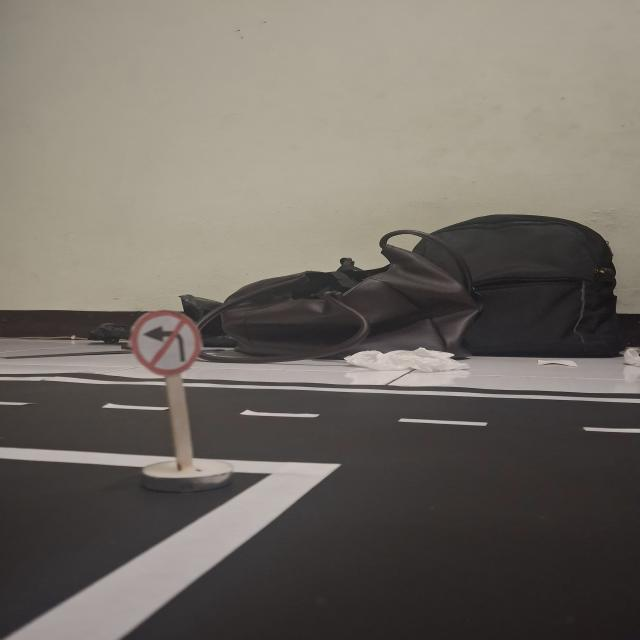Dilarang Belok Kiri: (130, 310, 202, 375)
